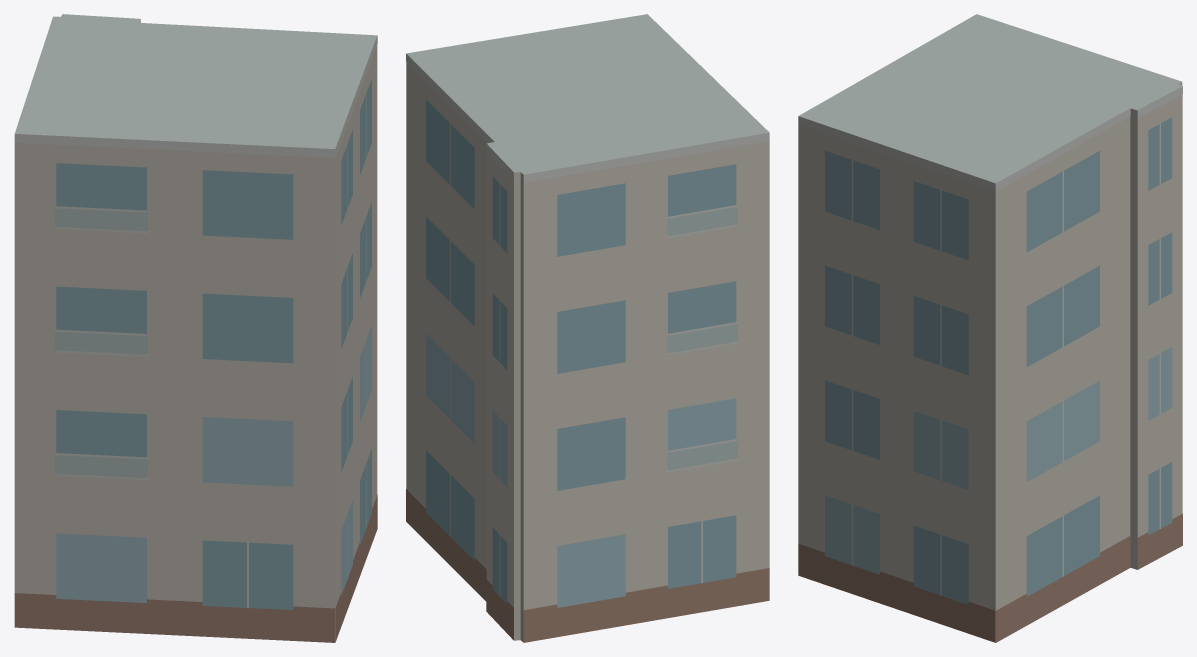
File: survey-upis-32489875.glb
3 renders of one model, left to right at view 1: azimuth 30°, elevation 25°; view 2: azimuth 150°, elevation 25°; view 3: azimuth 270°, elevation 25°, orthographic. The views are drawn at different scales.
Visible parts, largest first — view 1: survey-upis-32489875.tmp; view 2: survey-upis-32489875.tmp; view 3: survey-upis-32489875.tmp.
Boxes of the visible parts, x1,y1,x2,y2 form: survey-upis-32489875.tmp: [14, 14, 377, 642]; survey-upis-32489875.tmp: [406, 14, 769, 642]; survey-upis-32489875.tmp: [798, 14, 1182, 642].
Size of the model in its own units: 10.76 by 13.6 by 10.32.
